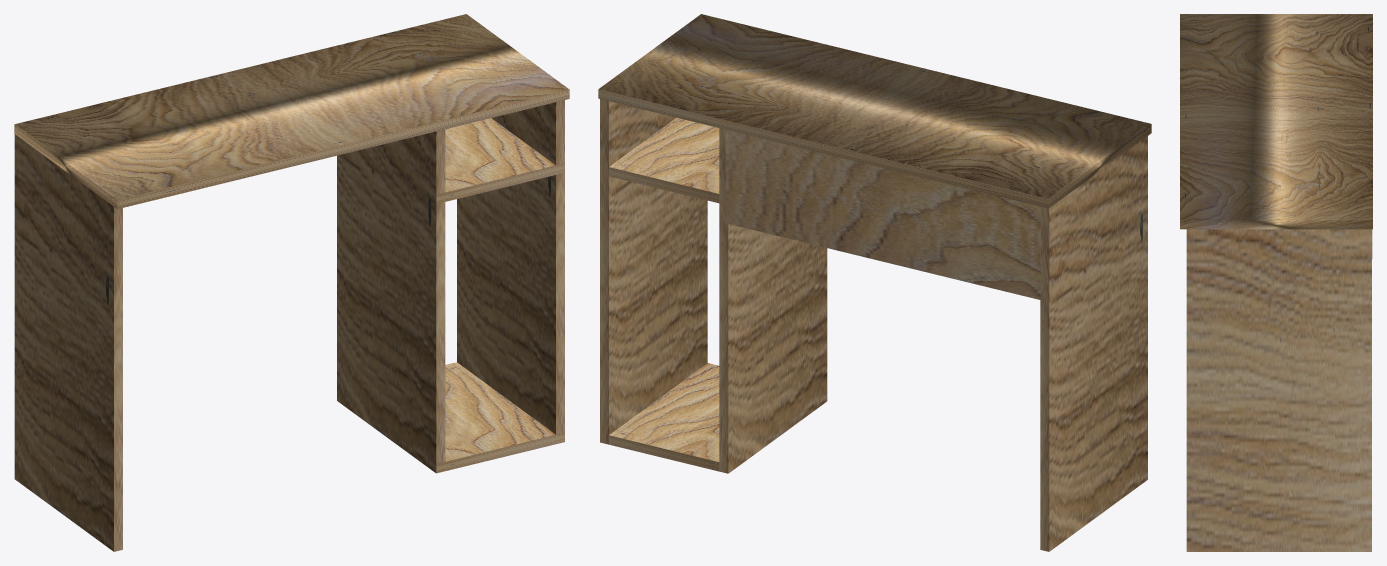
Rendered from Wooden Study Table.gltf.
3 renders of one model, left to right at view 1: azimuth 30°, elevation 25°; view 2: azimuth 150°, elevation 25°; view 3: azimuth 270°, elevation 25°, orthographic. The views are drawn at different scales.
Visible parts, largest first — view 1: Cube.005; view 2: Cube.005; view 3: Cube.005.
Part boxes in pixels (x1=…): Cube.005: x1=14, y1=14, x2=569, y2=551; Cube.005: x1=598, y1=14, x2=1151, y2=551; Cube.005: x1=1180, y1=14, x2=1372, y2=551.
Bounding box in the file's own units: 1 × 0.7498 × 0.395.
7 materials, 7 textured.
